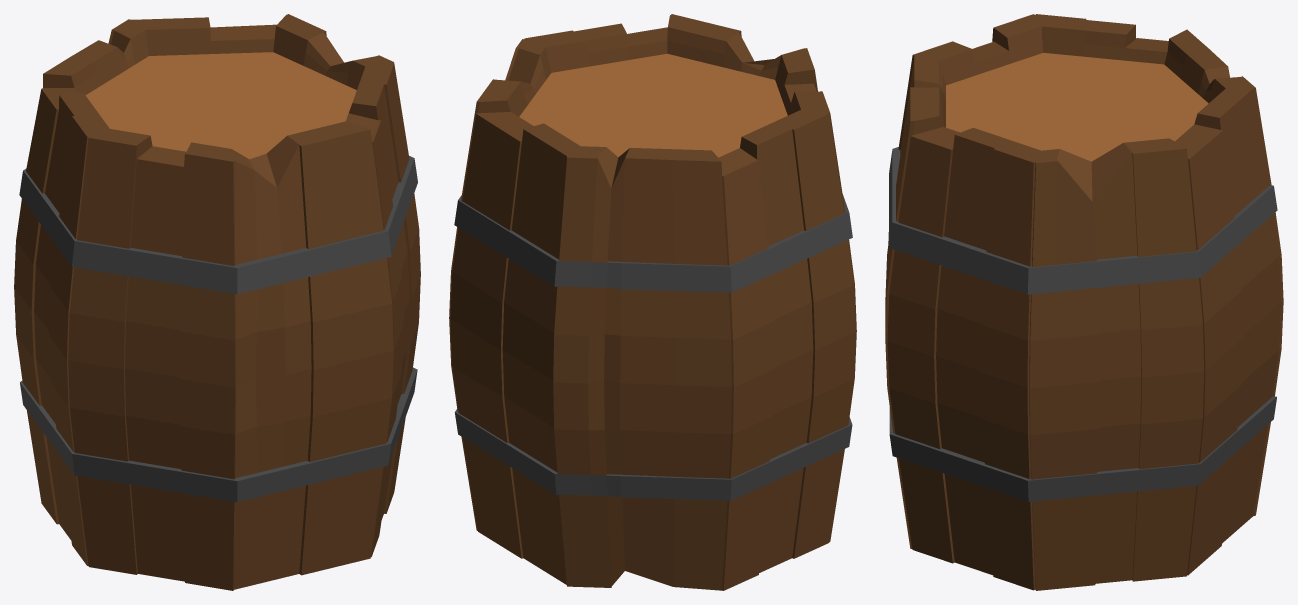
File: barril.fbx
3 renders of one model, left to right at view 1: azimuth 30°, elevation 25°; view 2: azimuth 150°, elevation 25°; view 3: azimuth 270°, elevation 25°, orthographic.
Visible parts, largest first — view 1: Cylinder; view 2: Cylinder; view 3: Cylinder.
Boxes of the visible parts, bbox=[...] form: Cylinder: bbox=[14, 14, 420, 590]; Cylinder: bbox=[449, 14, 856, 590]; Cylinder: bbox=[885, 14, 1283, 590].
Size of the model in its own units: 229 by 265 by 224.
1 material, 1 textured.
